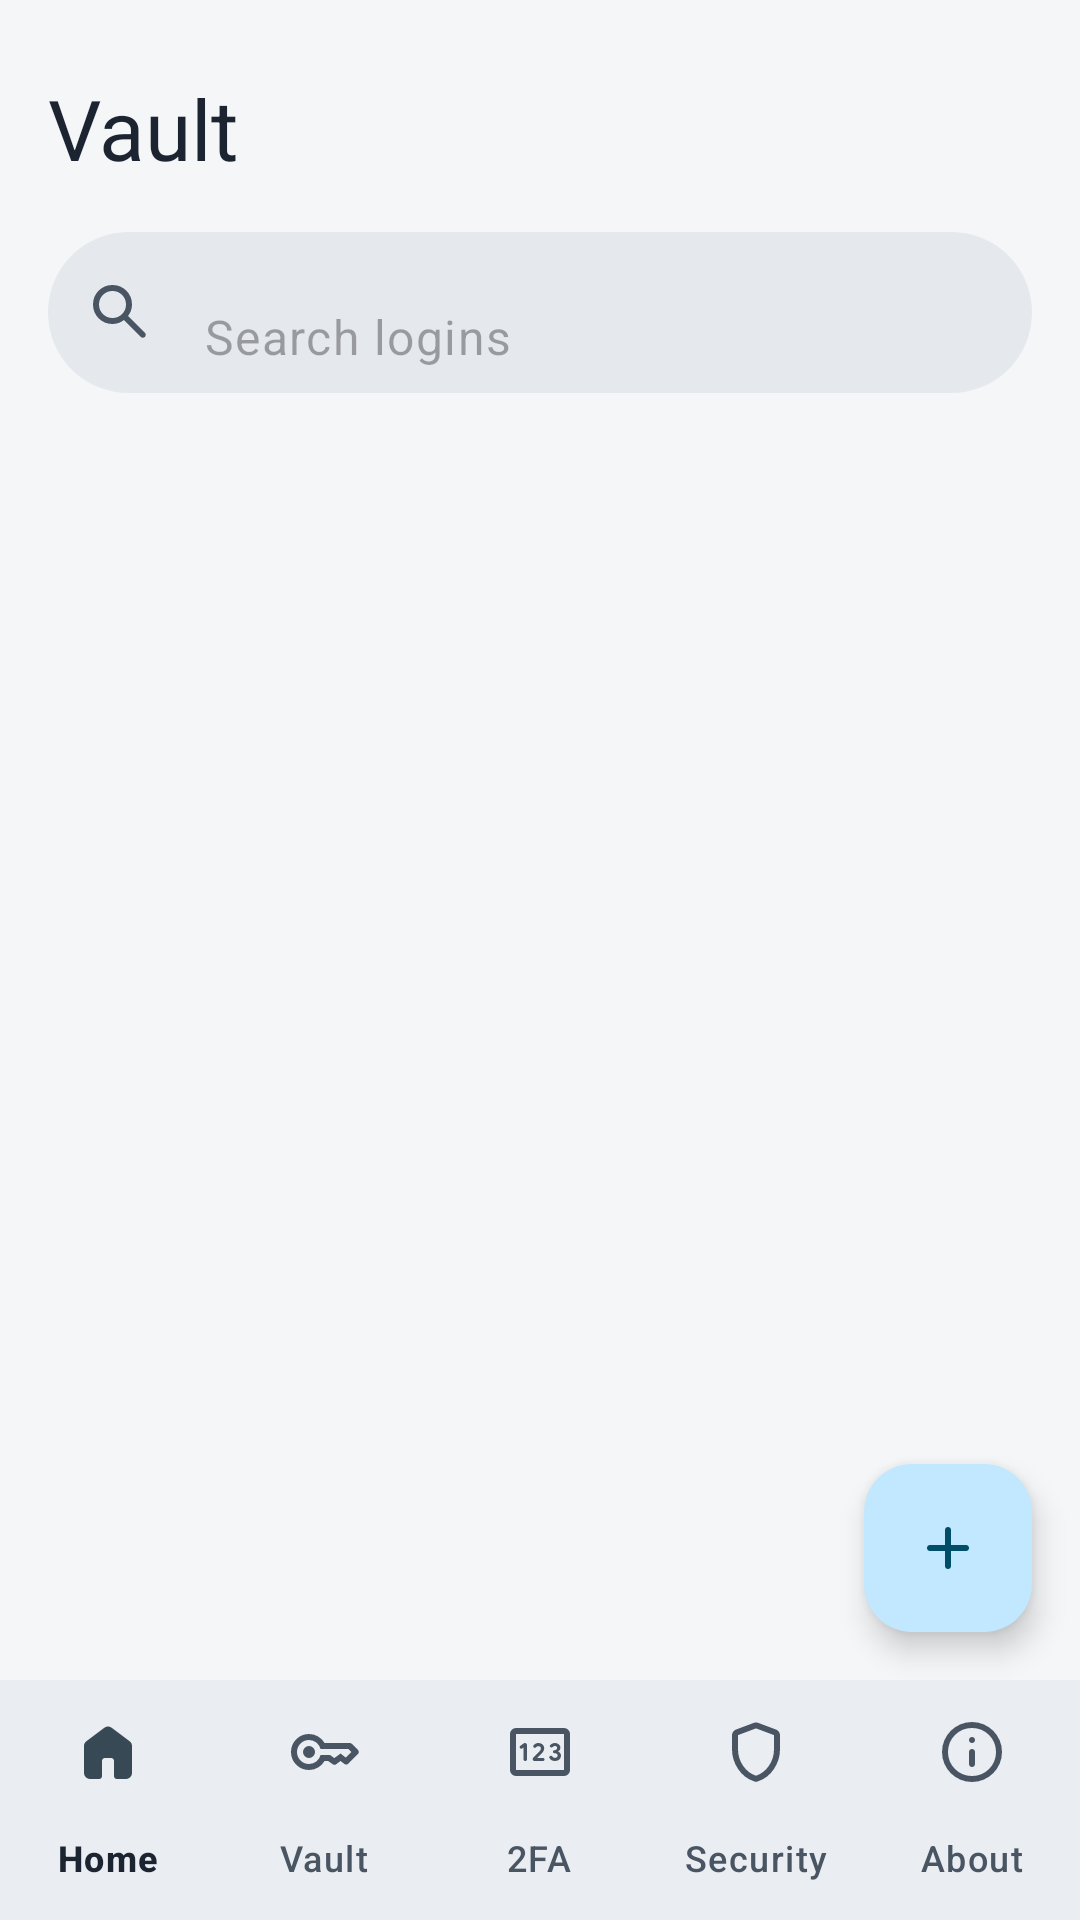

Screen size 1080×1920. Icon name, then its box in pixels as (x1,y1,x2,y2):
Add login: (864,1464,1032,1632)
